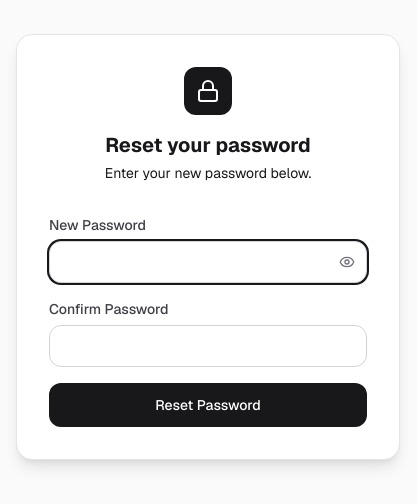
ResetPasswordPage › shows API error message on failed submission
In the password field labelled "New Password": (208, 262) [49, 241, 367, 283], type "newpassword123"
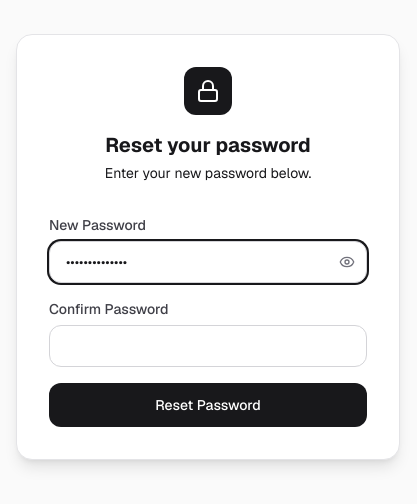
In the password field labelled "Confirm Password": (208, 346) [49, 325, 367, 367], type "newpassword123"
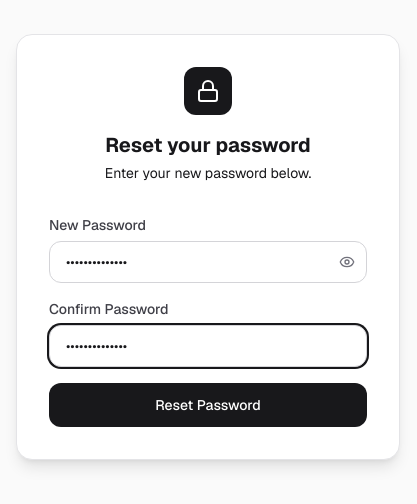
Click the button "Reset Password": (208, 405) [49, 383, 367, 427]
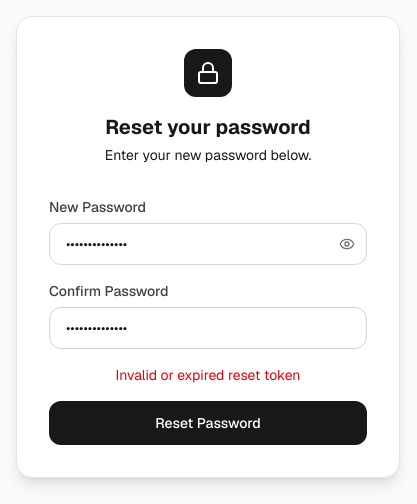
Now the text "Invalid or expired reset token" is shown, box [116, 366, 300, 384]
